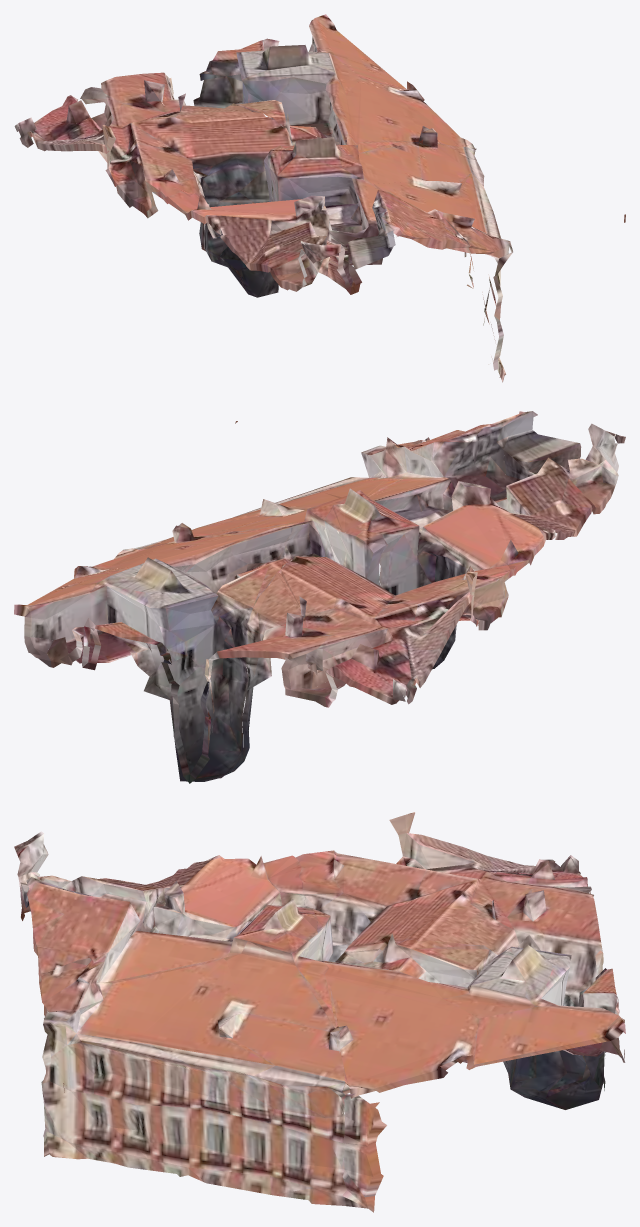
3 views of the same model, one above another, from view 1: azimuth 30°, elevation 25°; view 2: azimuth 150°, elevation 25°; view 3: azimuth 270°, elevation 25° (orthographic). The views are drawn at different scales.
Parts seen in each view (by area): view 1: Mesh_0; view 2: Mesh_0; view 3: Mesh_0.
Boxes of the visible parts, bbox=[...] form: Mesh_0: bbox=[14, 14, 625, 382]; Mesh_0: bbox=[14, 411, 625, 783]; Mesh_0: bbox=[14, 812, 625, 1212].
Size of the model in its own units: 33.43 by 16.15 by 41.31.
2 materials, 2 textured.
